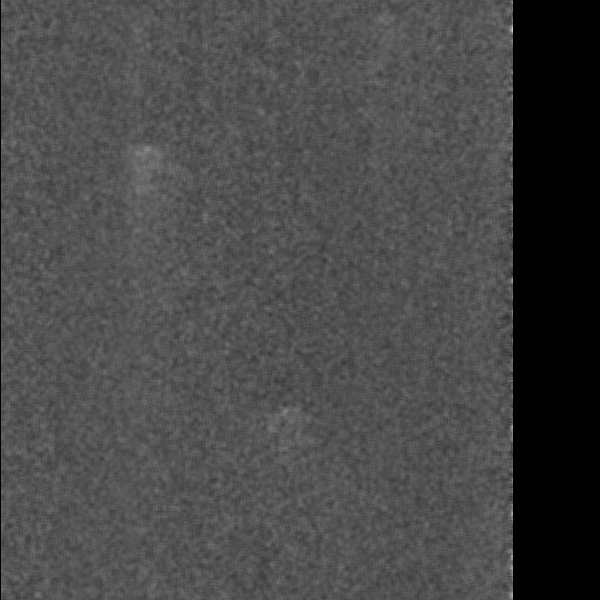spark: (278, 399, 300, 429), (131, 140, 156, 159)
